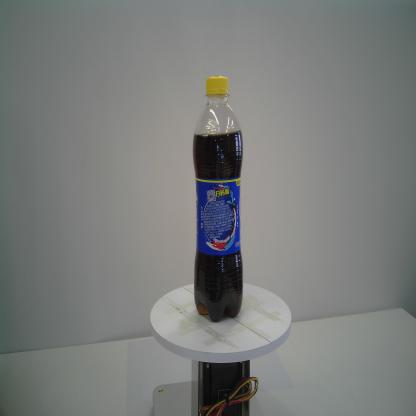Drink: (191, 74, 246, 324)
